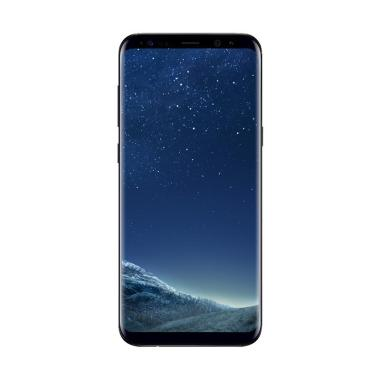Handphone: (115, 32, 266, 350)
